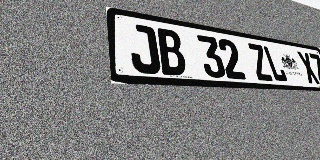2: (217, 38, 246, 79)
3: (196, 34, 227, 78)
B: (155, 27, 188, 76)
J: (127, 23, 162, 74)
L: (262, 45, 289, 82)
X: (296, 51, 320, 84)
Z: (246, 43, 274, 81), (308, 53, 320, 85)
